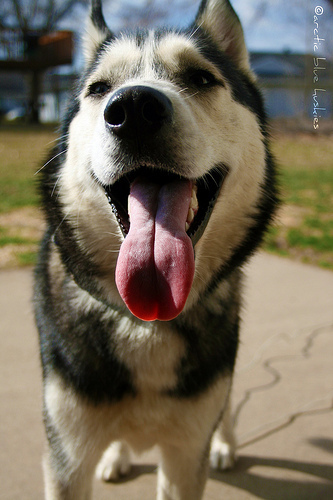dog: (30, 1, 285, 498)
